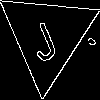J: (22, 11, 61, 64)
